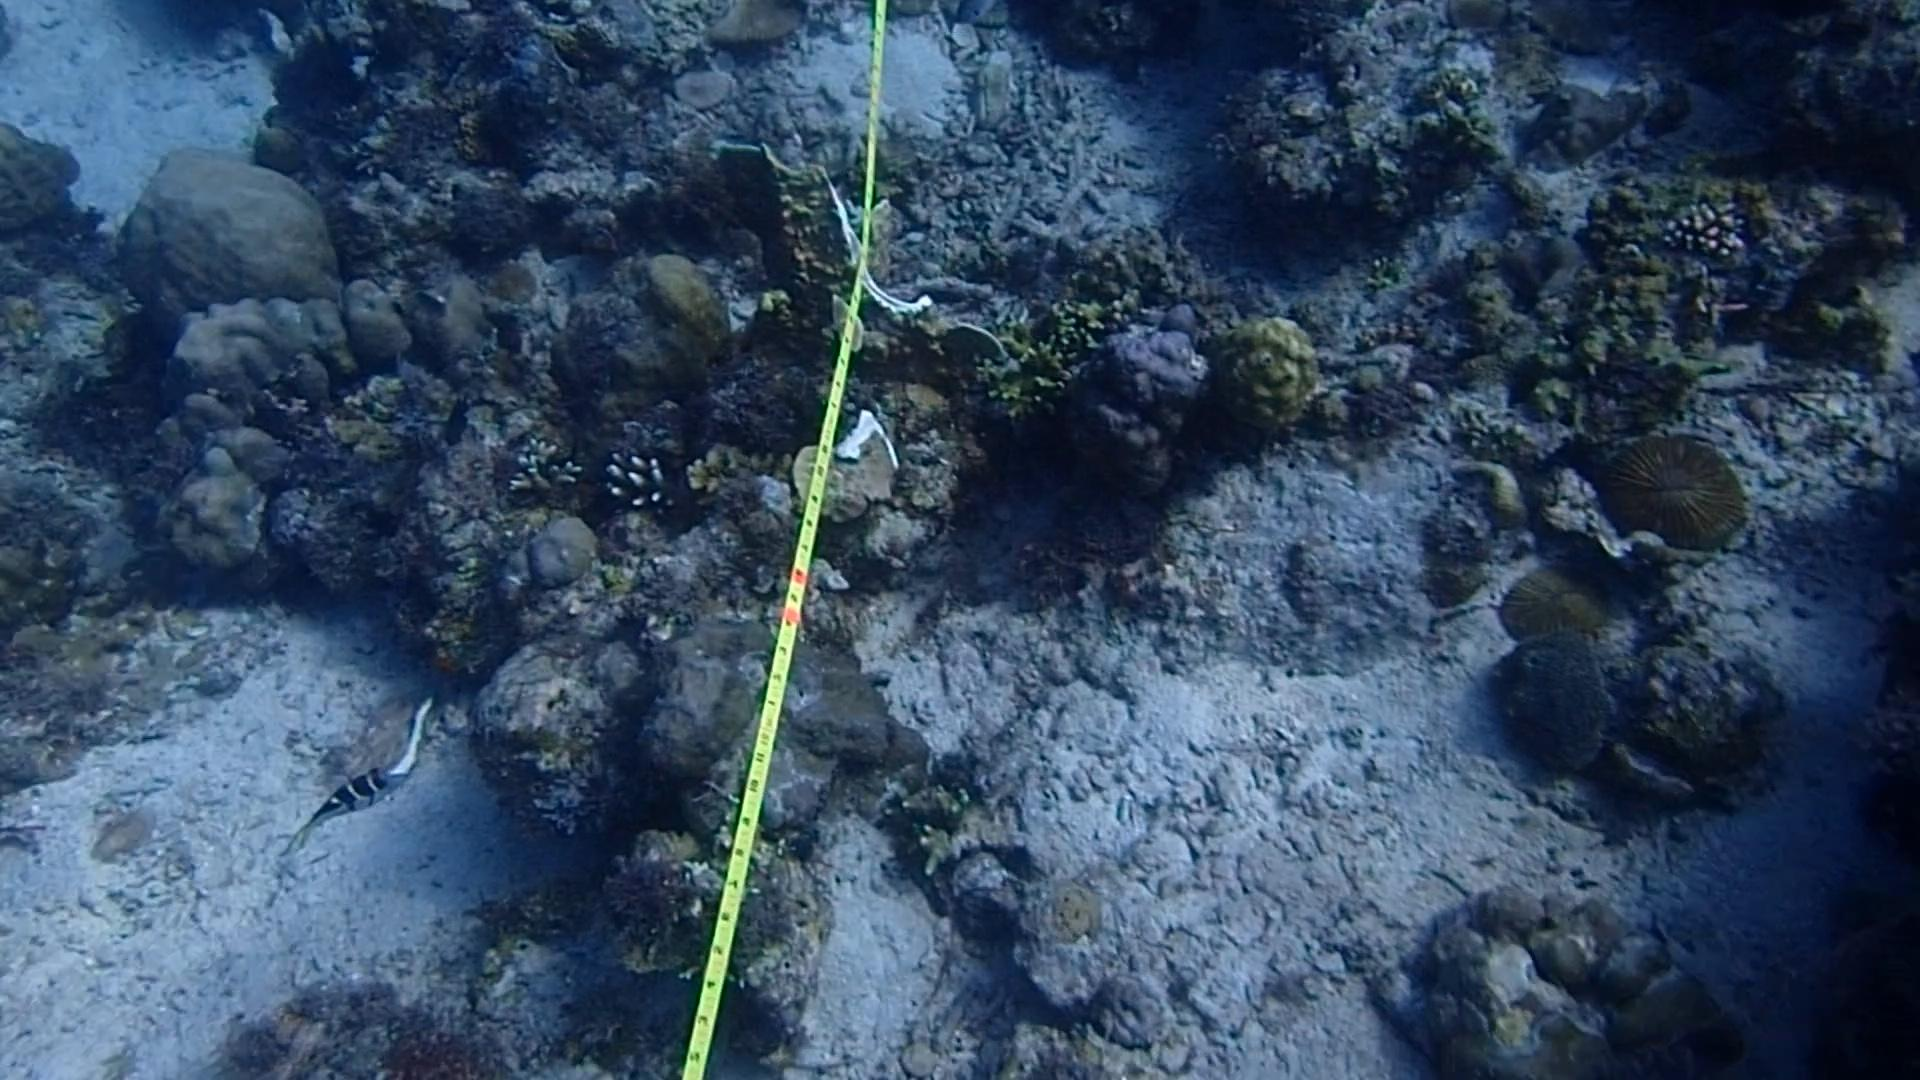Striped Fish: (303, 756, 400, 843)
